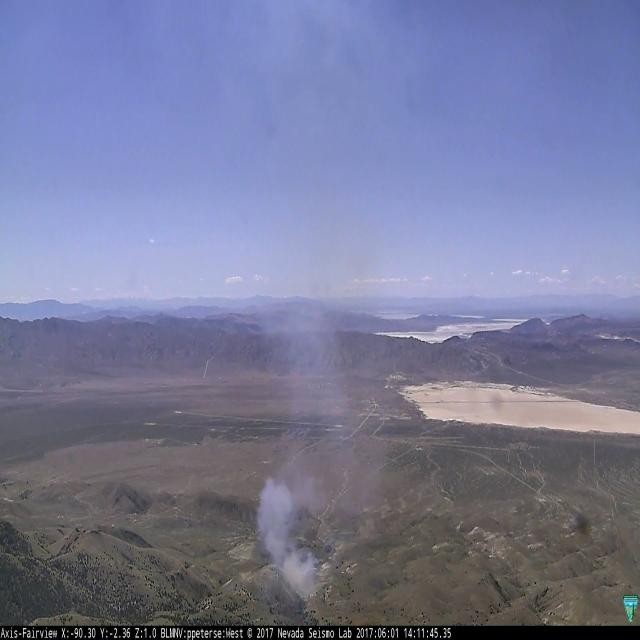smoke: (257, 473, 324, 598)
